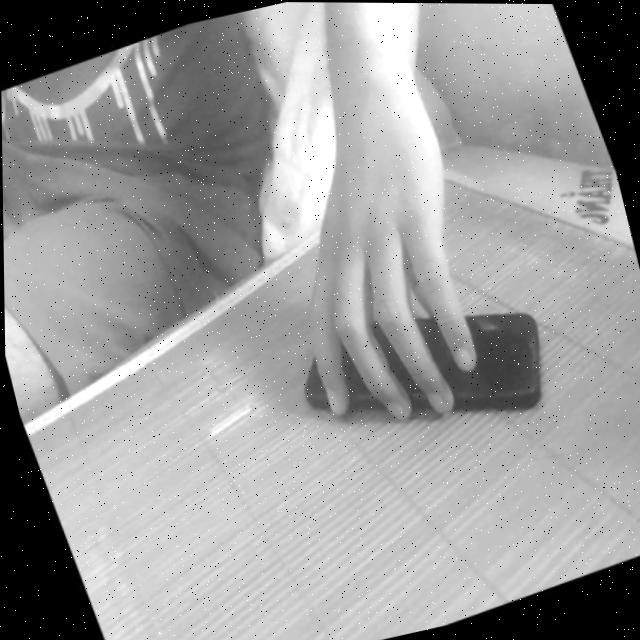phone: (252, 223, 586, 503)
